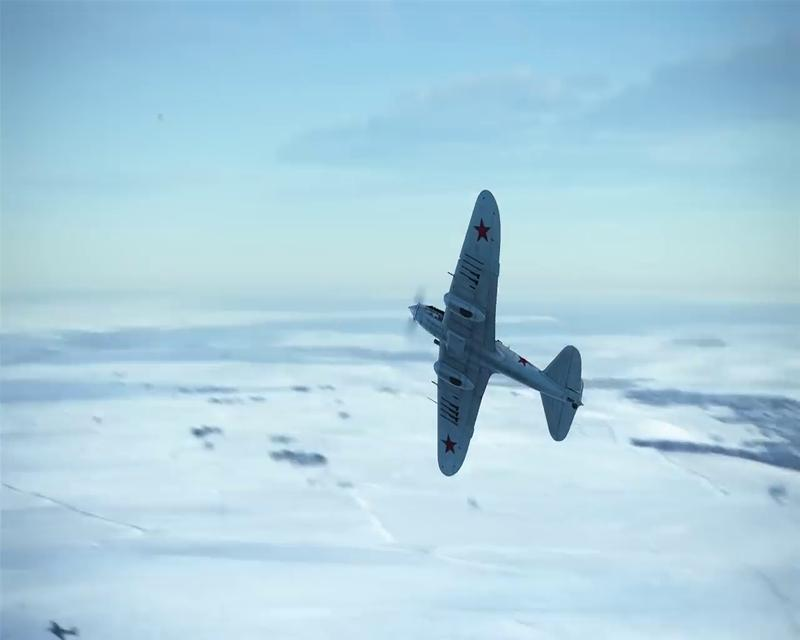UAV: (409, 188, 583, 481)
